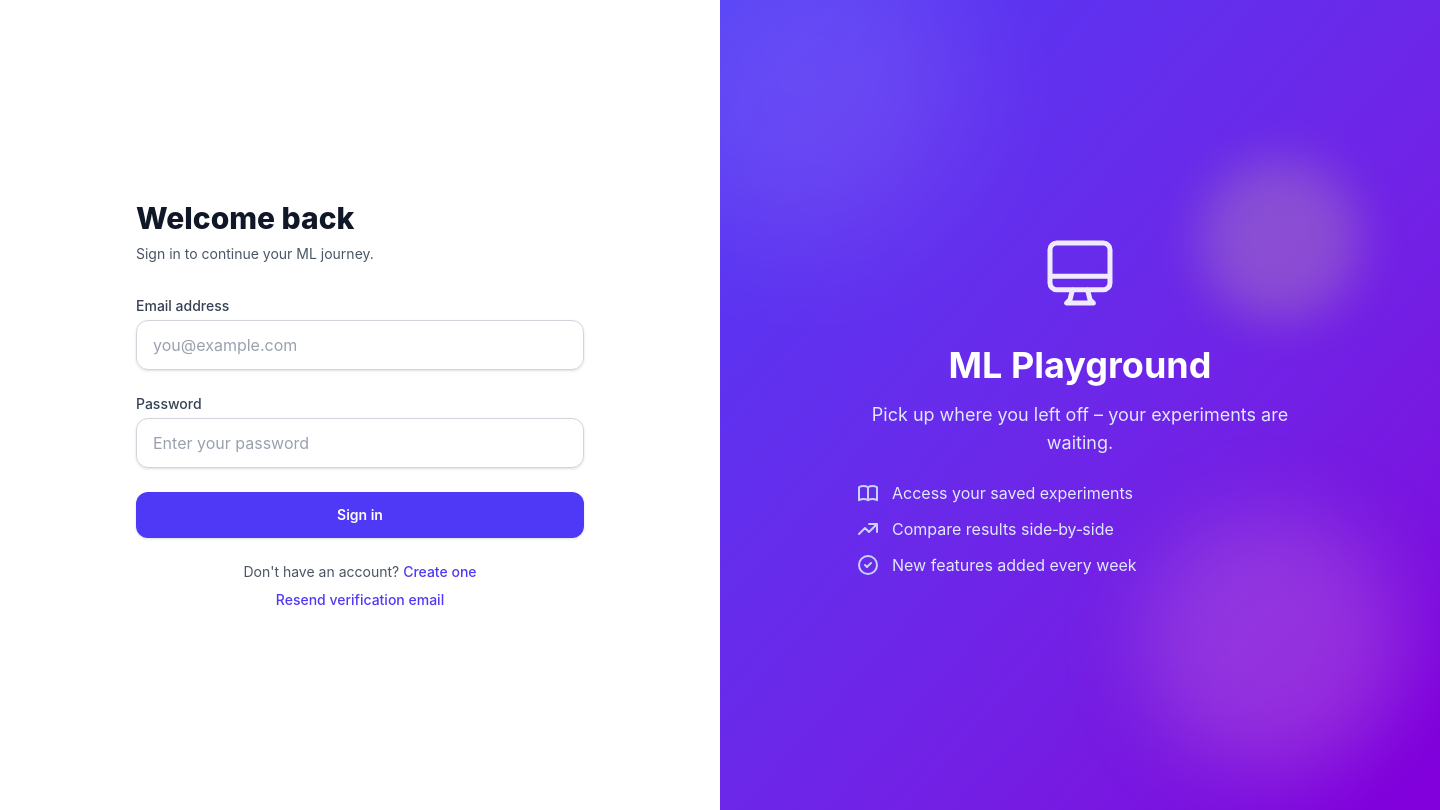
Test case: LoginPage › Error Handling › displays error message on login failure
This screenshot has width=1440, height=810.
In the field labelled "Email address": (360, 345) [136,320,584,370], type "test@example.com"
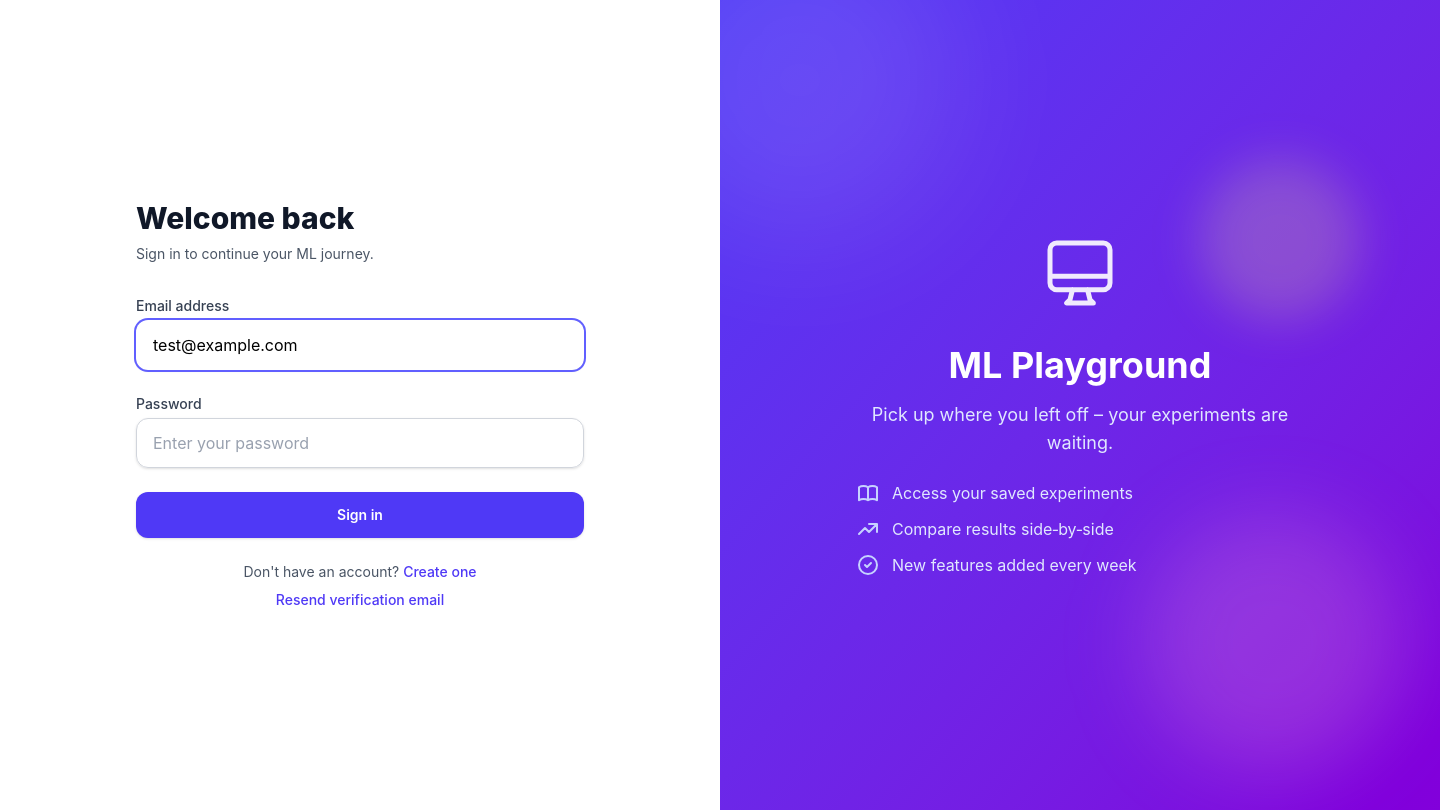
In the password field labelled "Password": (360, 443) [136,418,584,468], type "wrongpassword"
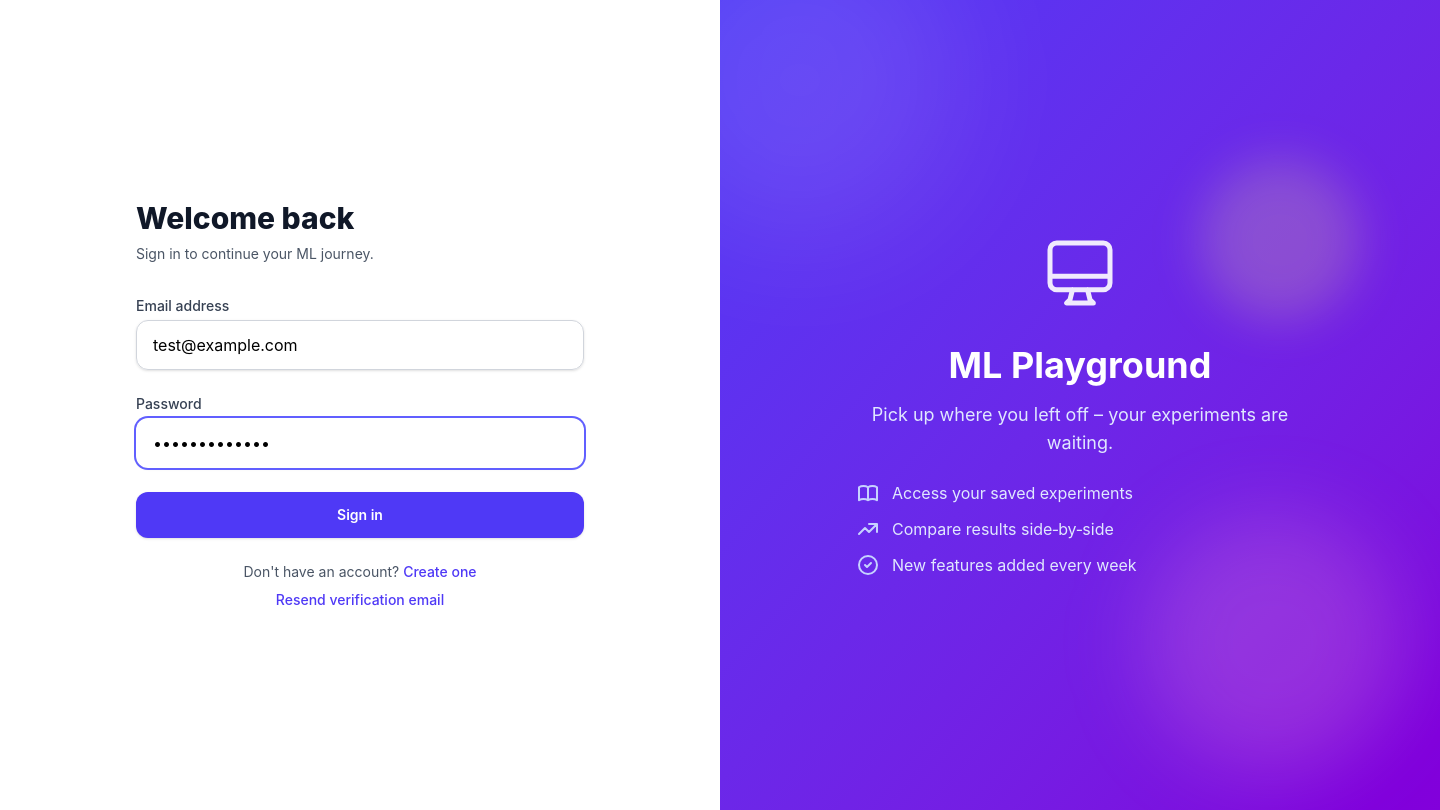
Click the button "Sign in": (360, 515) [136,492,584,538]
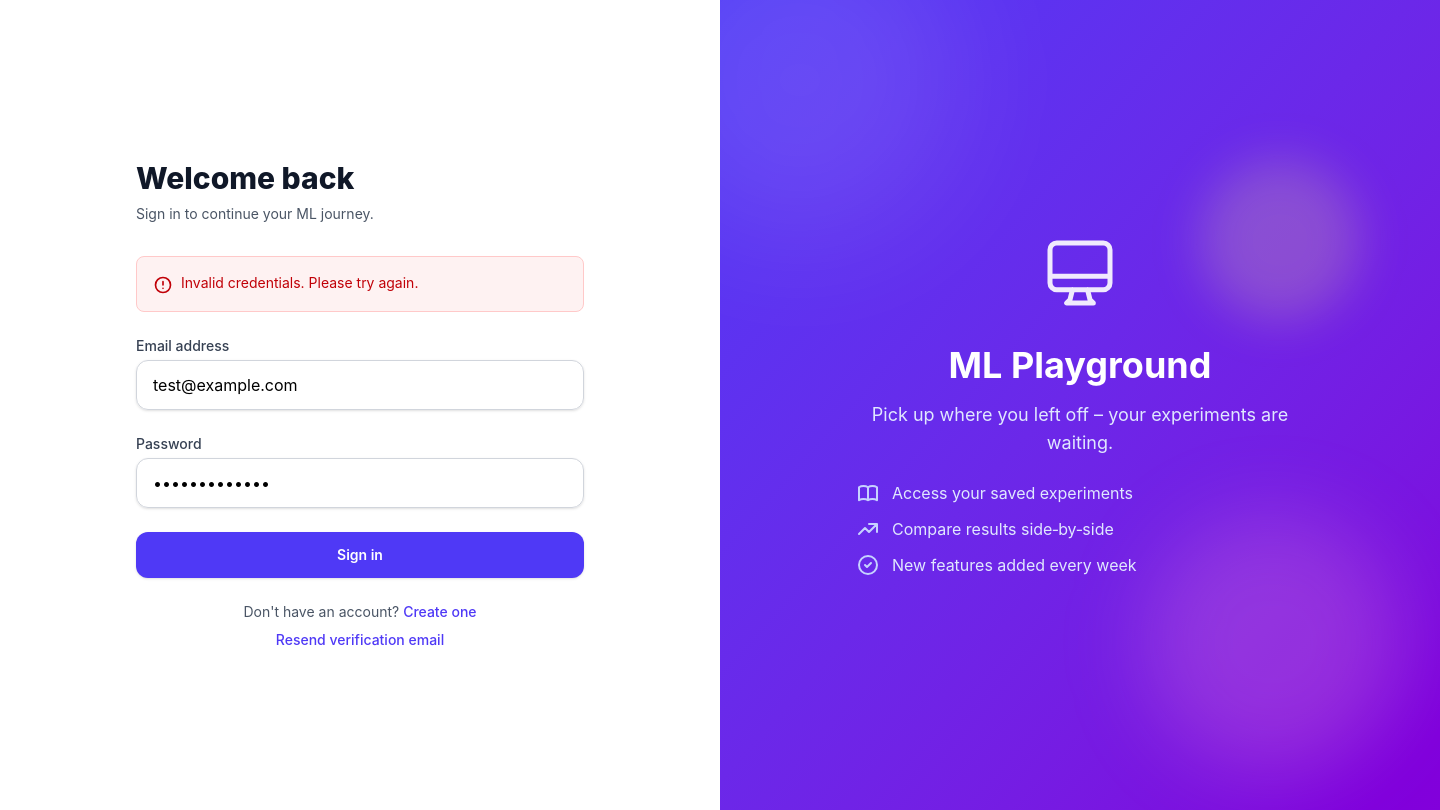
Now the text "Invalid credentials. Please try again." is shown, box [181,273,418,293]
